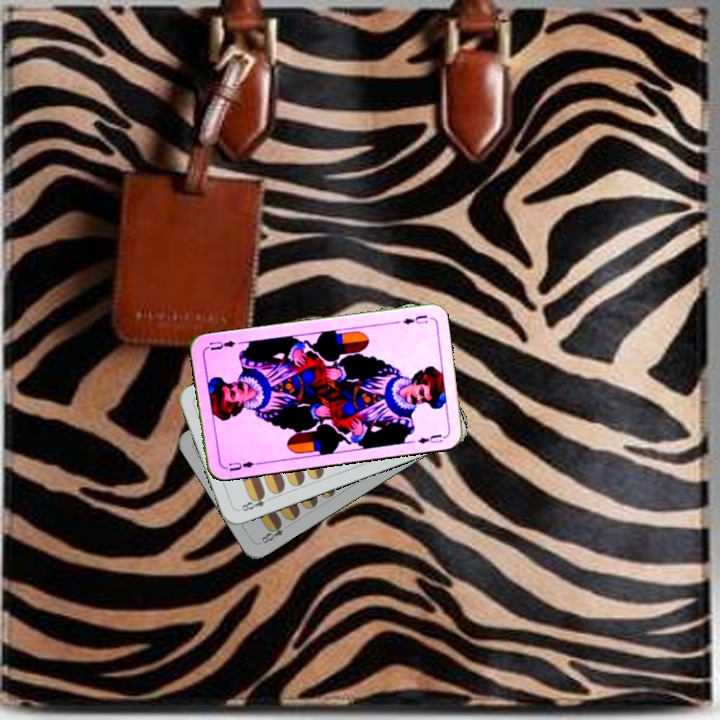E8: (257, 518, 286, 546), (235, 490, 268, 514)
EU: (225, 457, 261, 473), (399, 311, 430, 327)
